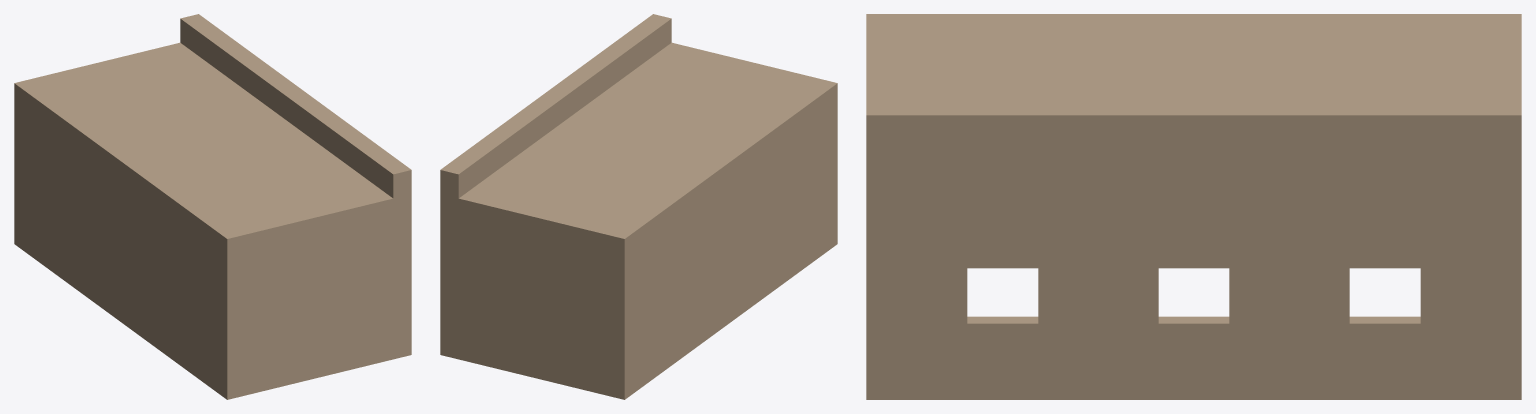
File: House.fbx
3 renders of one model, left to right at view 1: azimuth 30°, elevation 25°; view 2: azimuth 150°, elevation 25°; view 3: azimuth 270°, elevation 25°, orthographic. The views are drawn at different scales.
Visible parts, largest first — view 1: House; view 2: House; view 3: House.
Part boxes in pixels (x1,y1,x2,y2): House: (14,14,411,399); House: (440,14,837,399); House: (866,14,1521,399).
Bounding box in the file's own units: 600 × 1200 × 575.
